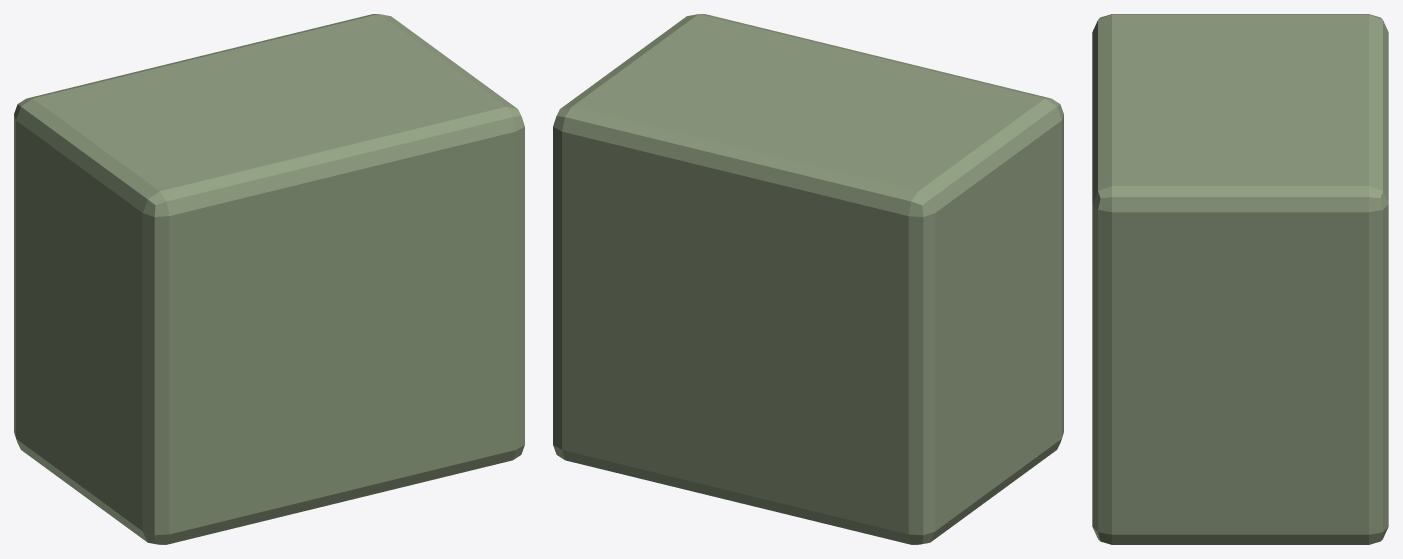
The model's file is Loot_AmmoBox_9mm.fbx.
3 views of the same model, side by side, from view 1: azimuth 30°, elevation 25°; view 2: azimuth 150°, elevation 25°; view 3: azimuth 270°, elevation 25° (orthographic).
Visible parts, largest first — view 1: AmmoBox9mm; view 2: AmmoBox9mm; view 3: AmmoBox9mm.
Boxes of the visible parts, box(x1,y1,x2,y2) form: AmmoBox9mm: box(14, 14, 524, 544); AmmoBox9mm: box(553, 14, 1063, 544); AmmoBox9mm: box(1092, 14, 1388, 544).
Size of the model in its own units: 0.18 by 0.16 by 0.12.
